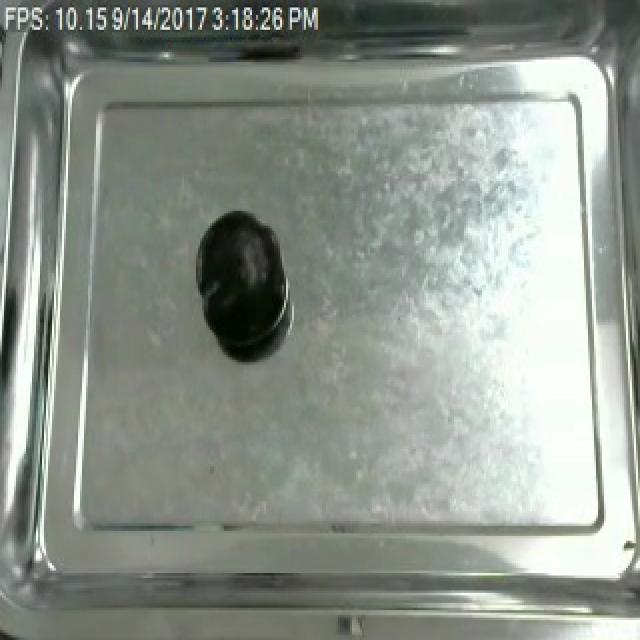Fruit: (194, 206, 286, 357)
